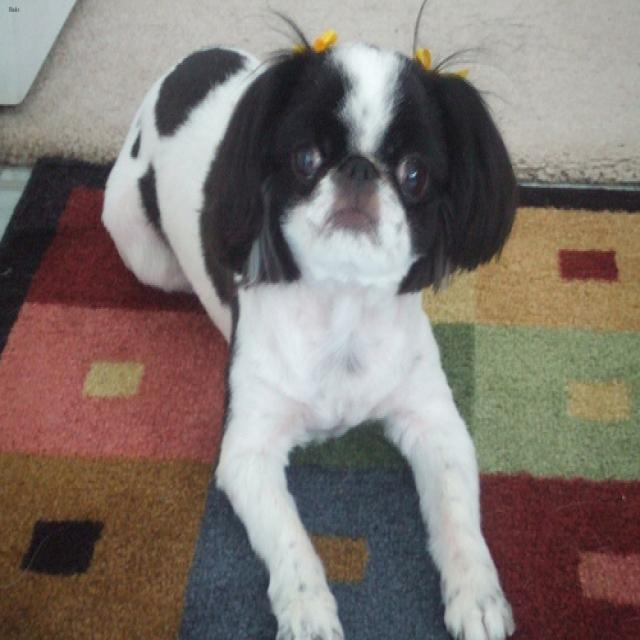dog-japanese_chin: (91, 2, 525, 637)
